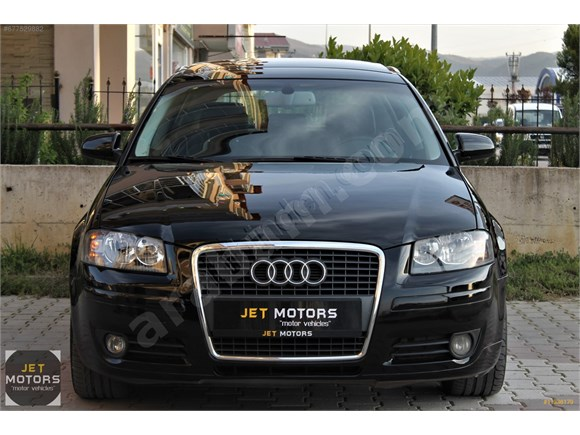audi: (244, 255, 330, 287)
